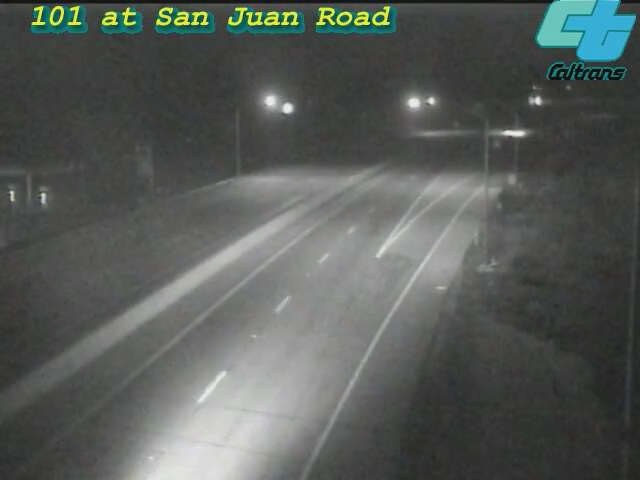vehicle: (168, 288, 278, 398), (487, 109, 537, 159)
